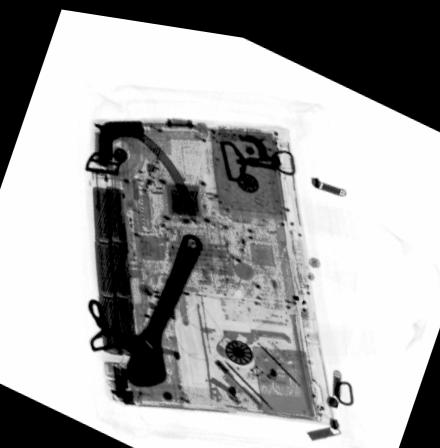Wrench: (109, 227, 204, 382)
